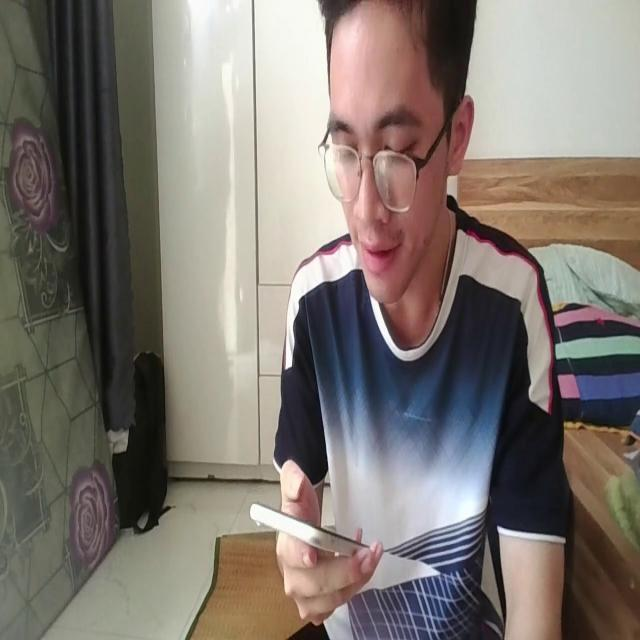phone: (246, 496, 378, 561)
student: (274, 0, 564, 640)
